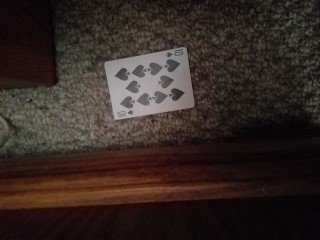TenOfSpades: (103, 46, 197, 121)
